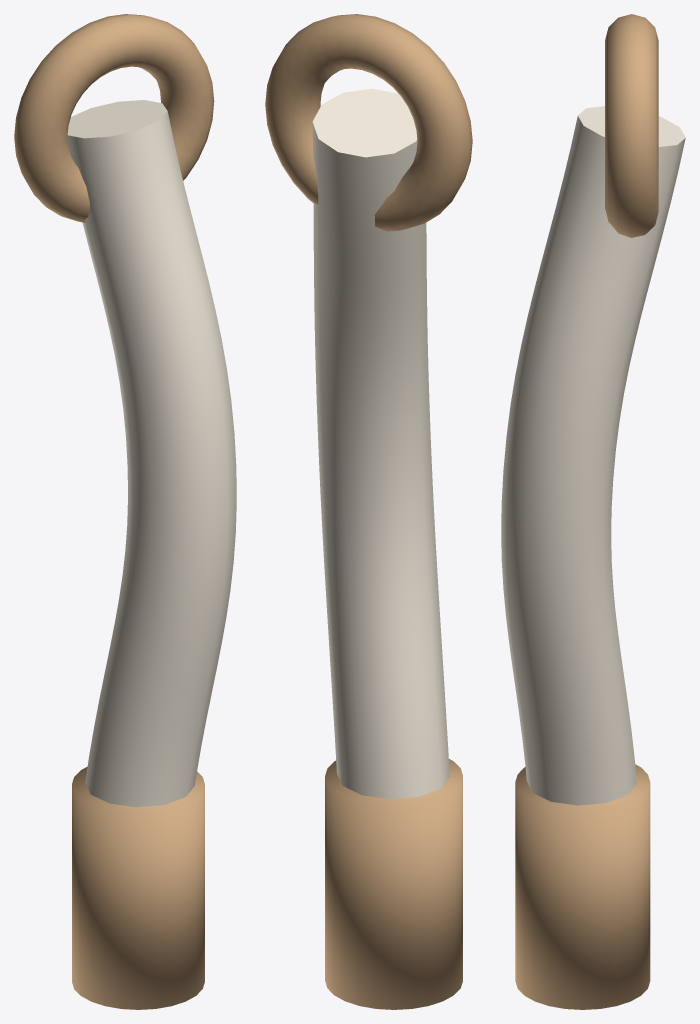
The model's file is hood_string.fbx.
3 views of the same model, side by side, from view 1: azimuth 30°, elevation 25°; view 2: azimuth 150°, elevation 25°; view 3: azimuth 270°, elevation 25° (orthographic). The views are drawn at different scales.
Parts seen in each view (by area): view 1: HoodString_Cord, HoodString_Aglet, HoodString_Eyelet; view 2: HoodString_Cord, HoodString_Aglet, HoodString_Eyelet; view 3: HoodString_Cord, HoodString_Aglet, HoodString_Eyelet.
Part boxes in pixels (x1,y1,x2,y2): HoodString_Cord: (67, 100, 236, 807); HoodString_Aglet: (72, 766, 204, 1009); HoodString_Eyelet: (14, 14, 214, 222); HoodString_Cord: (312, 88, 449, 799); HoodString_Aglet: (325, 759, 462, 1009); HoodString_Eyelet: (265, 14, 472, 231); HoodString_Cord: (501, 106, 685, 805); HoodString_Aglet: (515, 764, 650, 1009); HoodString_Eyelet: (605, 14, 658, 237).
Bounding box in the file's own units: 0.0184 × 0.0862 × 0.0151.
